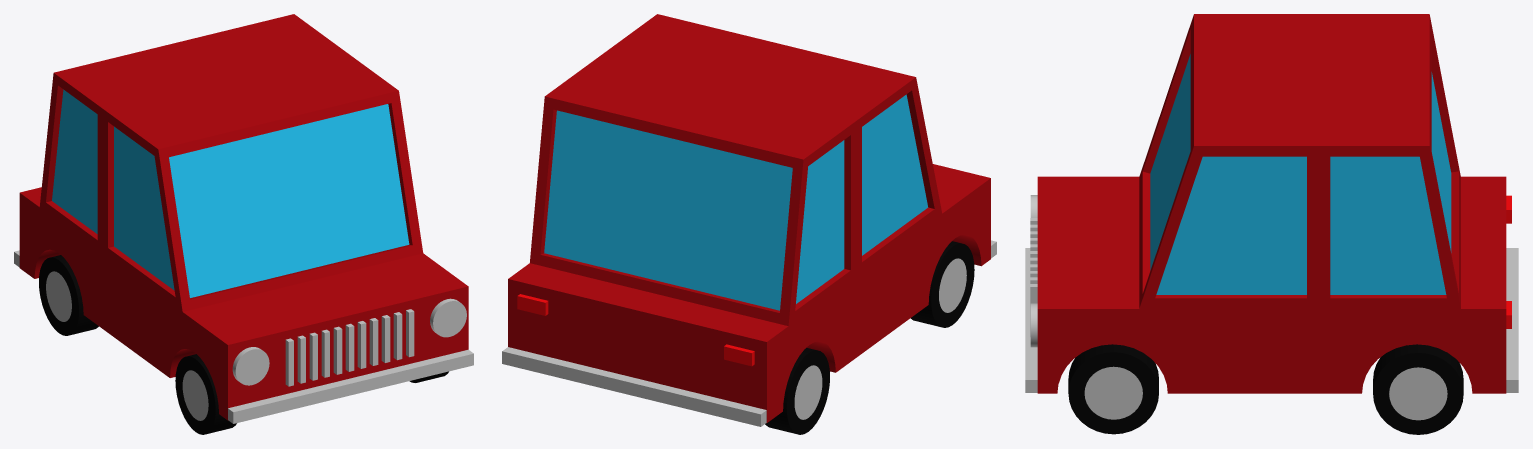
File: car.glb
3 views of the same model, side by side, from view 1: azimuth 30°, elevation 25°; view 2: azimuth 150°, elevation 25°; view 3: azimuth 270°, elevation 25° (orthographic). The views are drawn at different scales.
Parts seen in each view (by area): view 1: Body, Wheels, Grille, Bumpers, Front Lights; view 2: Body, Wheels, Bumpers, Back Lights; view 3: Body, Wheels, Bumpers, Grille, Front Lights.
Boxes of the visible parts, bbox=[...] form: Body: bbox=[19, 14, 468, 420]; Wheels: bbox=[39, 255, 448, 434]; Grille: bbox=[285, 309, 414, 386]; Bumpers: bbox=[14, 250, 473, 423]; Front Lights: bbox=[232, 298, 466, 385]; Body: bbox=[508, 14, 990, 423]; Wheels: bbox=[765, 241, 974, 434]; Bumpers: bbox=[502, 240, 996, 426]; Back Lights: bbox=[517, 294, 754, 366]; Body: bbox=[1037, 14, 1506, 393]; Wheels: bbox=[1068, 344, 1463, 434]; Bumpers: bbox=[1025, 248, 1518, 392]; Grille: bbox=[1030, 218, 1037, 336]; Front Lights: bbox=[1030, 195, 1037, 347].
Bounding box in the file's own units: 4 × 4.08 × 6.32.
